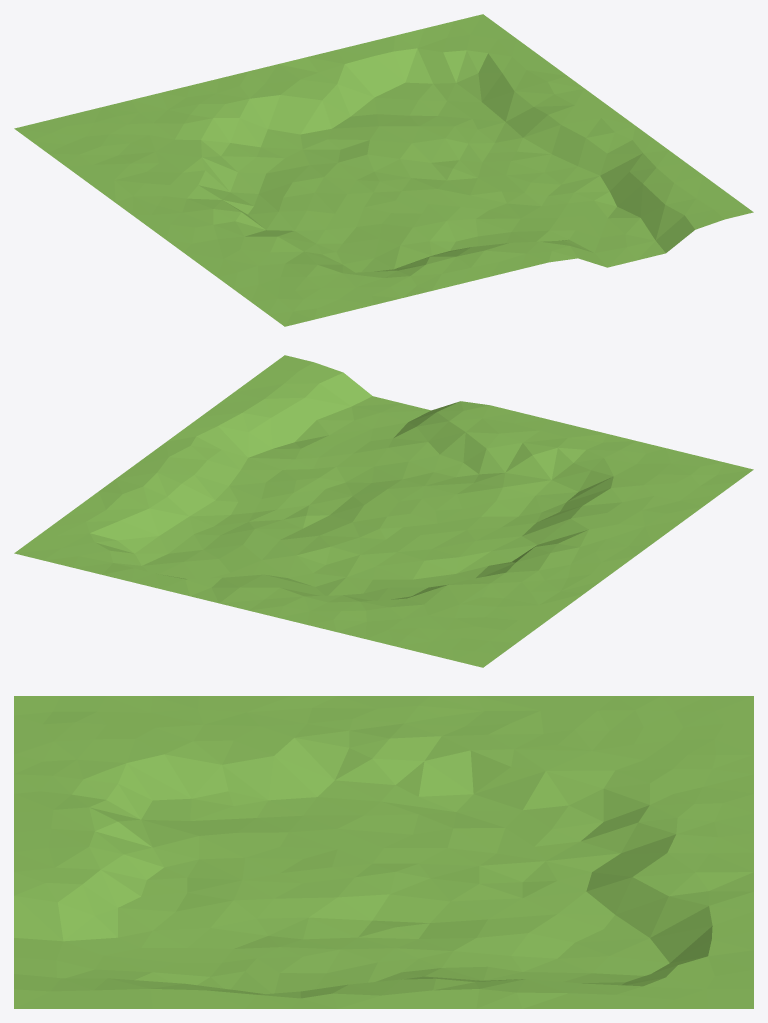
File: MT_River_End_M_a_01_R_LOD.fbx
3 renders of one model, top to bottom at view 1: azimuth 30°, elevation 25°; view 2: azimuth 150°, elevation 25°; view 3: azimuth 270°, elevation 25°, orthographic. The views are drawn at different scales.
Parts seen in each view (by area): view 1: MT_River_End_M_a_01_R_LOD0; view 2: MT_River_End_M_a_01_R_LOD0; view 3: MT_River_End_M_a_01_R_LOD0.
Part boxes in pixels (x1=…): MT_River_End_M_a_01_R_LOD0: x1=14, y1=14, x2=753, y2=326; MT_River_End_M_a_01_R_LOD0: x1=14, y1=355, x2=753, y2=667; MT_River_End_M_a_01_R_LOD0: x1=14, y1=696, x2=753, y2=1008.
Size of what is drawn, in the model's own units: 50 by 2.44 by 50.
